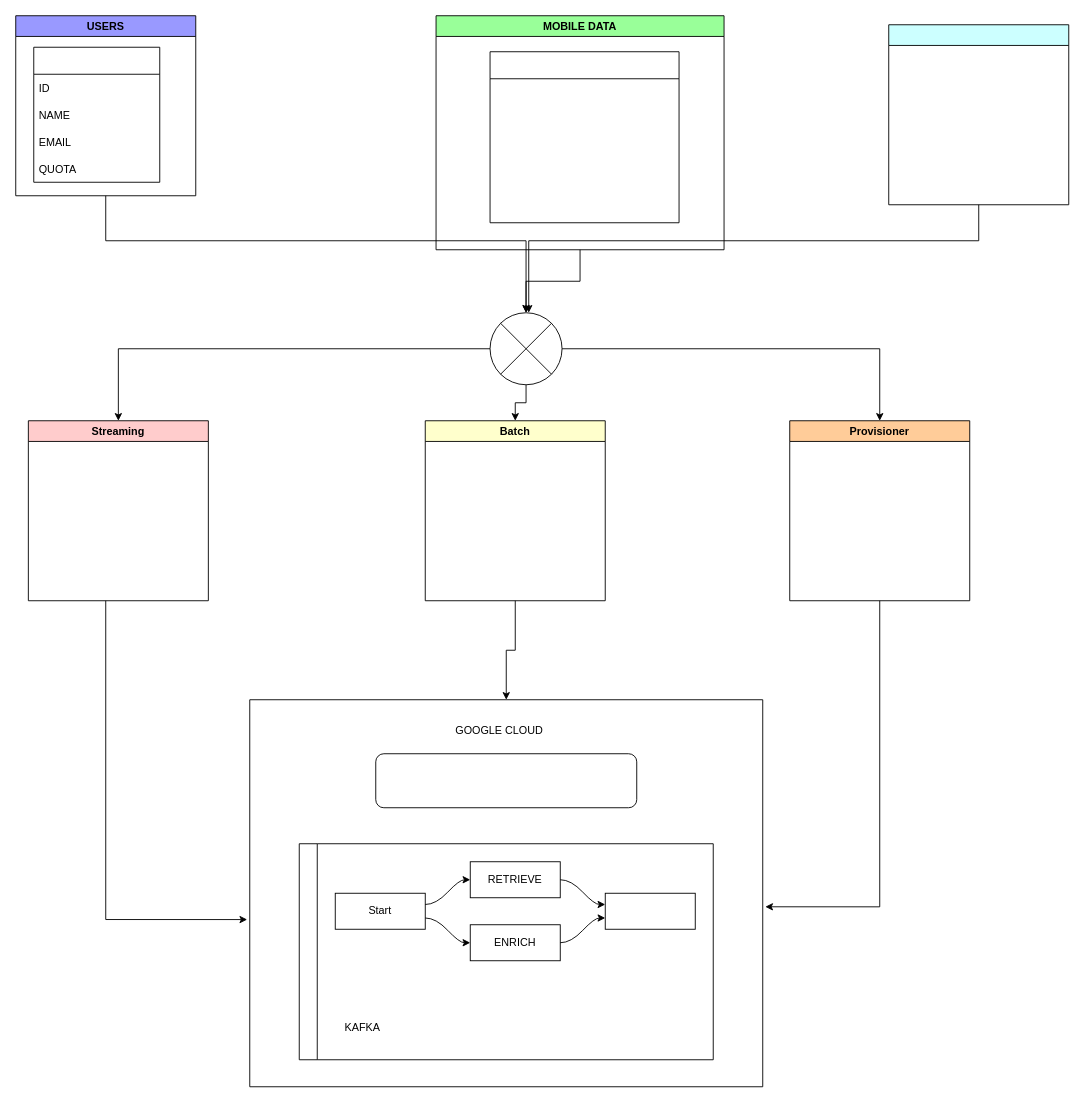
Some shapes in this 1085 by 1103 pixel diagram are drawn without their labels. The centre of each missing label's shape, as x and y in pixels:
"End" goes at point 649,910.
"METADATA" goes at point 978,114.
"STORAGE" goes at point 506,780.
"TIMESTAMP ID ANTENNA_ID APP BYTES" goes at point 584,137.
